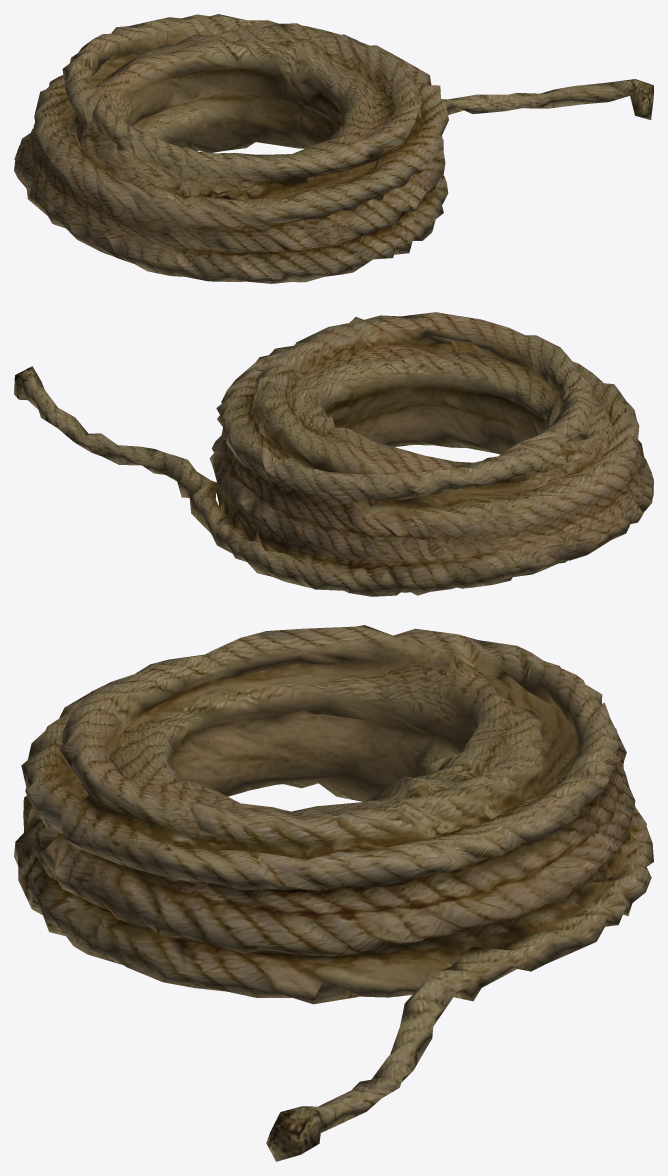
File: rope_coil_hemp.glb
The picture shows the model from 3 angles, top to bottom: view 1: azimuth 30°, elevation 25°; view 2: azimuth 150°, elevation 25°; view 3: azimuth 270°, elevation 25°; orthographic projection. The views are drawn at different scales.
Visible parts, largest first — view 1: rope_coil_hemp; view 2: rope_coil_hemp; view 3: rope_coil_hemp.
Boxes of the visible parts, x1=… form: rope_coil_hemp: x1=14, y1=14, x2=653, y2=283; rope_coil_hemp: x1=14, y1=312, x2=653, y2=596; rope_coil_hemp: x1=14, y1=625, x2=653, y2=1161.
Size of the model in its own units: 0.3 by 0.0583 by 0.1942.
Materials: 1 (1 with a texture image).
